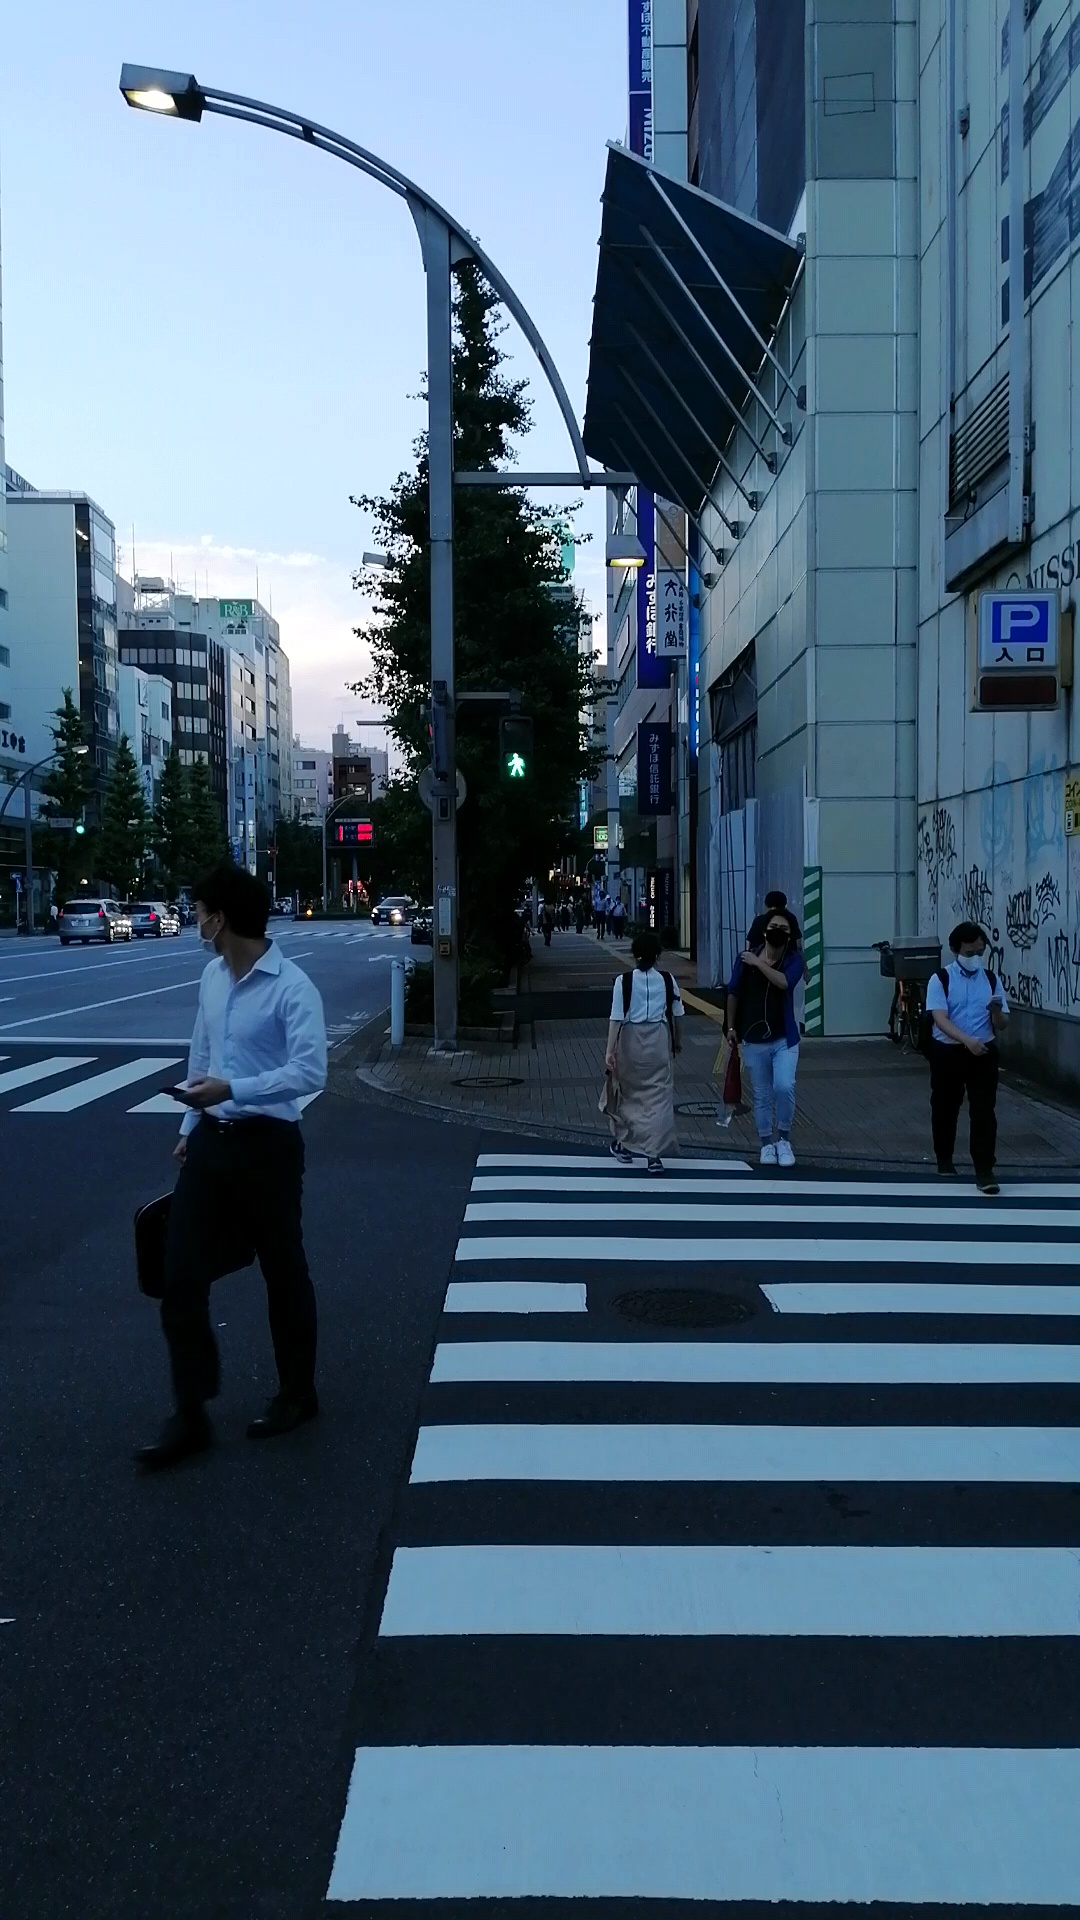green: (501, 724, 535, 787)
